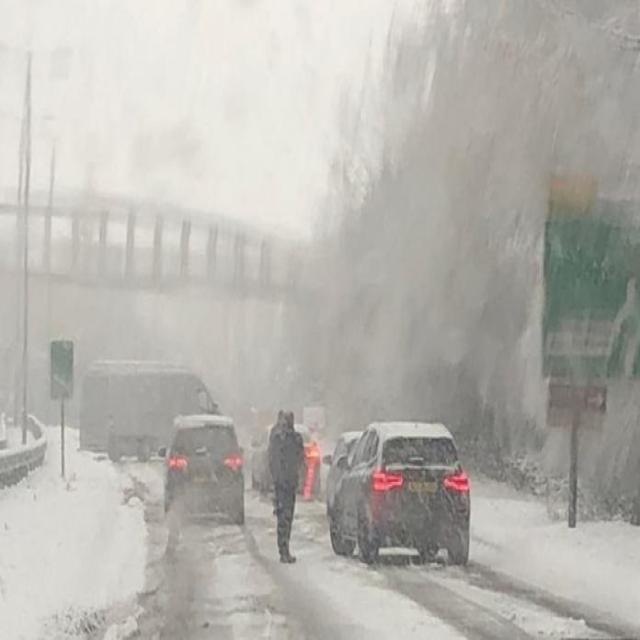Car: (327, 419, 472, 566), (164, 410, 248, 527), (248, 418, 324, 502)
Van: (75, 358, 230, 466)
